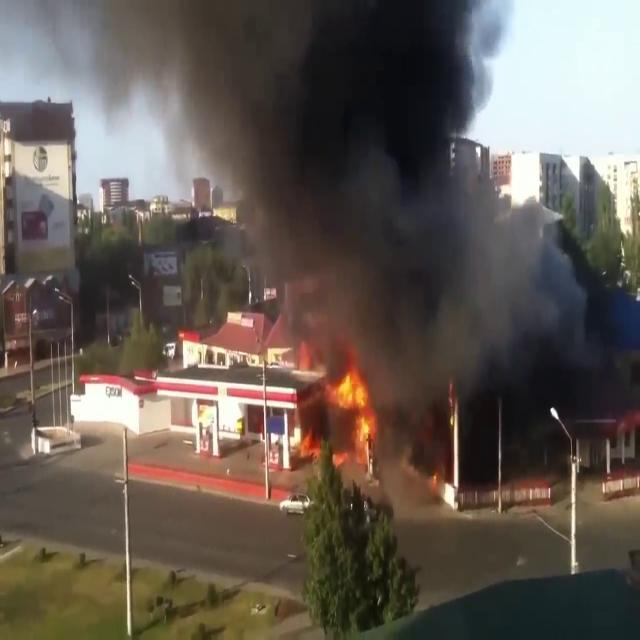Fire: (328, 364, 378, 466)
Smoke: (98, 1, 600, 362)
